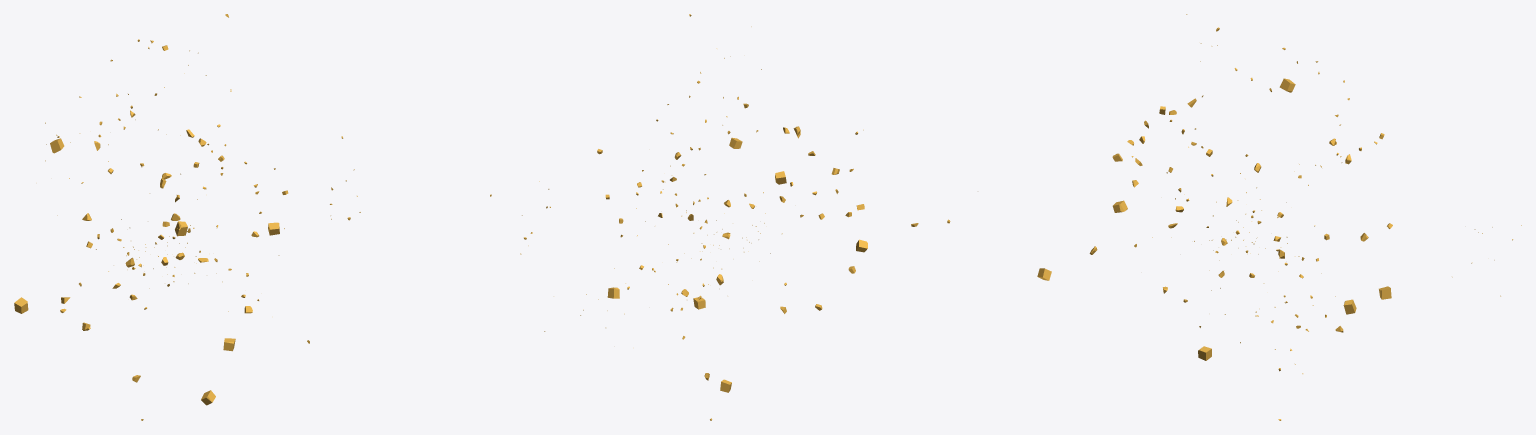
File: miniexplode.f0021.glb
3 renders of one model, left to right at view 1: azimuth 30°, elevation 25°; view 2: azimuth 150°, elevation 25°; view 3: azimuth 270°, elevation 25°, orthographic. The views are drawn at different scales.
Bounding box in the file's own units: 27.01 × 24.46 × 30.32.
